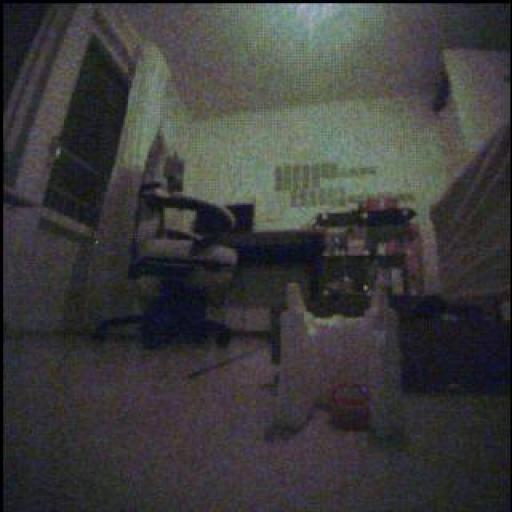basket: (332, 385, 372, 431), (366, 196, 399, 212)
